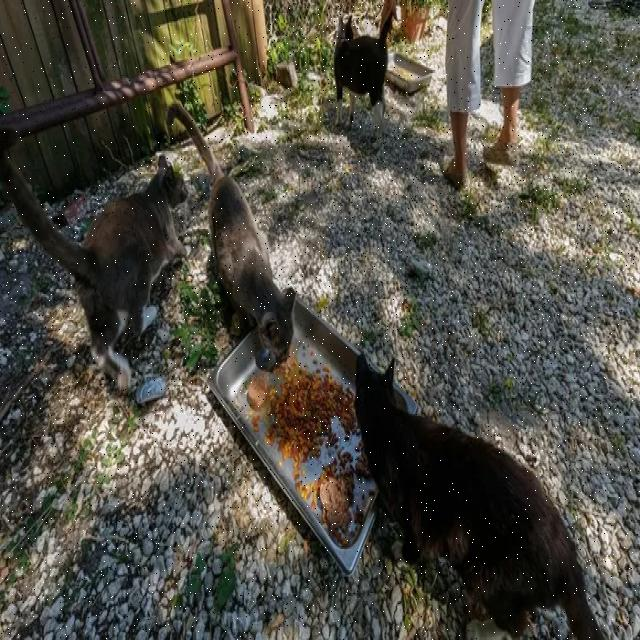cat: (355, 355, 602, 638), (0, 151, 188, 393), (168, 107, 295, 363), (334, 0, 394, 148)
